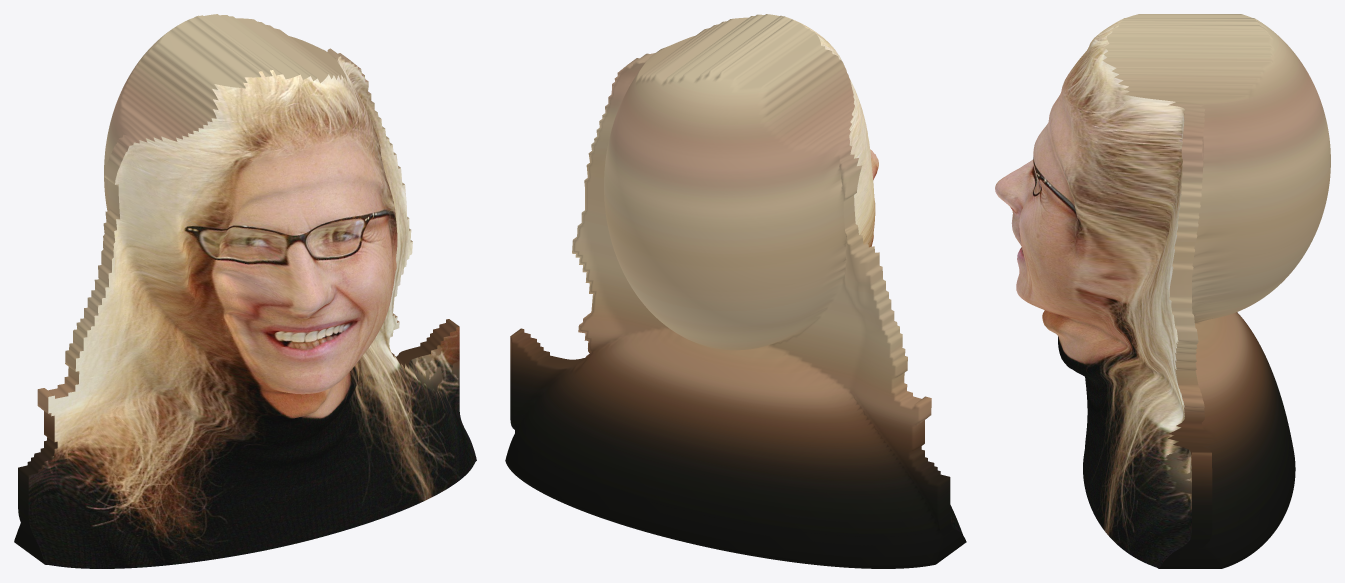
3 views of the same model, side by side, from view 1: azimuth 30°, elevation 25°; view 2: azimuth 150°, elevation 25°; view 3: azimuth 270°, elevation 25° (orthographic). The views are drawn at different scales.
Parts seen in each view (by area): view 1: face; view 2: face; view 3: face.
Part boxes in pixels (x1,y1,x2,y2): face: (14,14,476,568); face: (505,14,966,568); face: (995,14,1330,568).
Bounding box in the file's own units: 0.3377 × 0.3452 × 0.24.
Materials: 1 (1 with a texture image).
